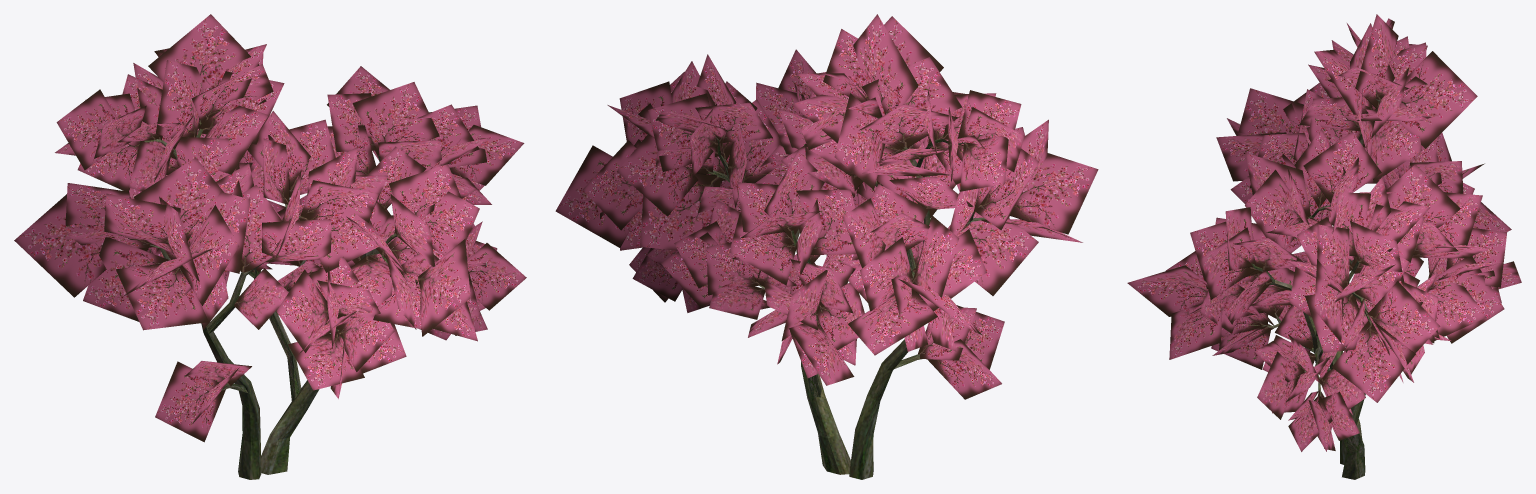
The model's file is TY_putongtaoshu01.FBX.
3 views of the same model, side by side, from view 1: azimuth 30°, elevation 25°; view 2: azimuth 150°, elevation 25°; view 3: azimuth 270°, elevation 25° (orthographic). The views are drawn at different scales.
Visible parts, largest first — view 1: TY_putongtaoshu01; view 2: TY_putongtaoshu01; view 3: TY_putongtaoshu01.
Part boxes in pixels (x1=…): TY_putongtaoshu01: x1=14, y1=14, x2=526, y2=479; TY_putongtaoshu01: x1=555, y1=14, x2=1098, y2=479; TY_putongtaoshu01: x1=1127, y1=14, x2=1521, y2=479.
Bounding box in the file's own units: 821 × 820 × 673.
